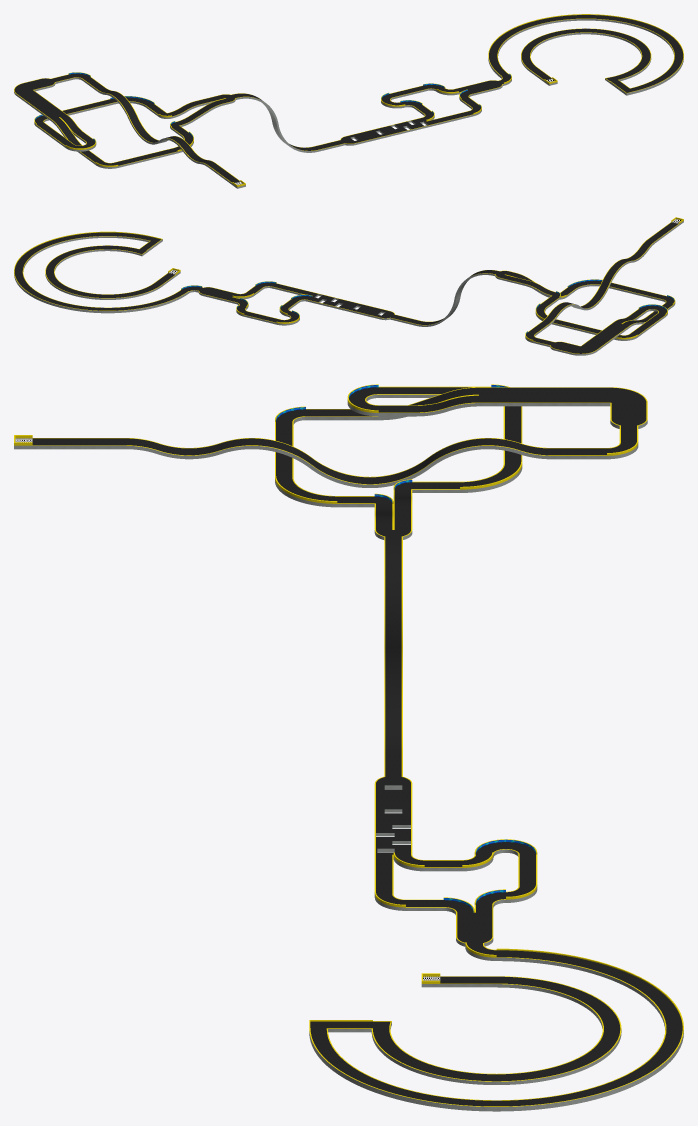
The model's file is track_advanced4.dae.
3 renders of one model, top to bottom at view 1: azimuth 30°, elevation 25°; view 2: azimuth 150°, elevation 25°; view 3: azimuth 270°, elevation 25°, orthographic. The views are drawn at different scales.
Visible parts, largest first — view 1: SketchUp (×4); view 2: SketchUp (×4); view 3: SketchUp (×3).
Part boxes in pixels (x1=…): SketchUp (×4): x1=14, y1=14, x2=683, y2=188; SketchUp (×4): x1=14, y1=217, x2=683, y2=355; SketchUp (×3): x1=14, y1=384, x2=683, y2=1111.
Bounding box in the file's own units: 88586 × 42232 × 10696.
